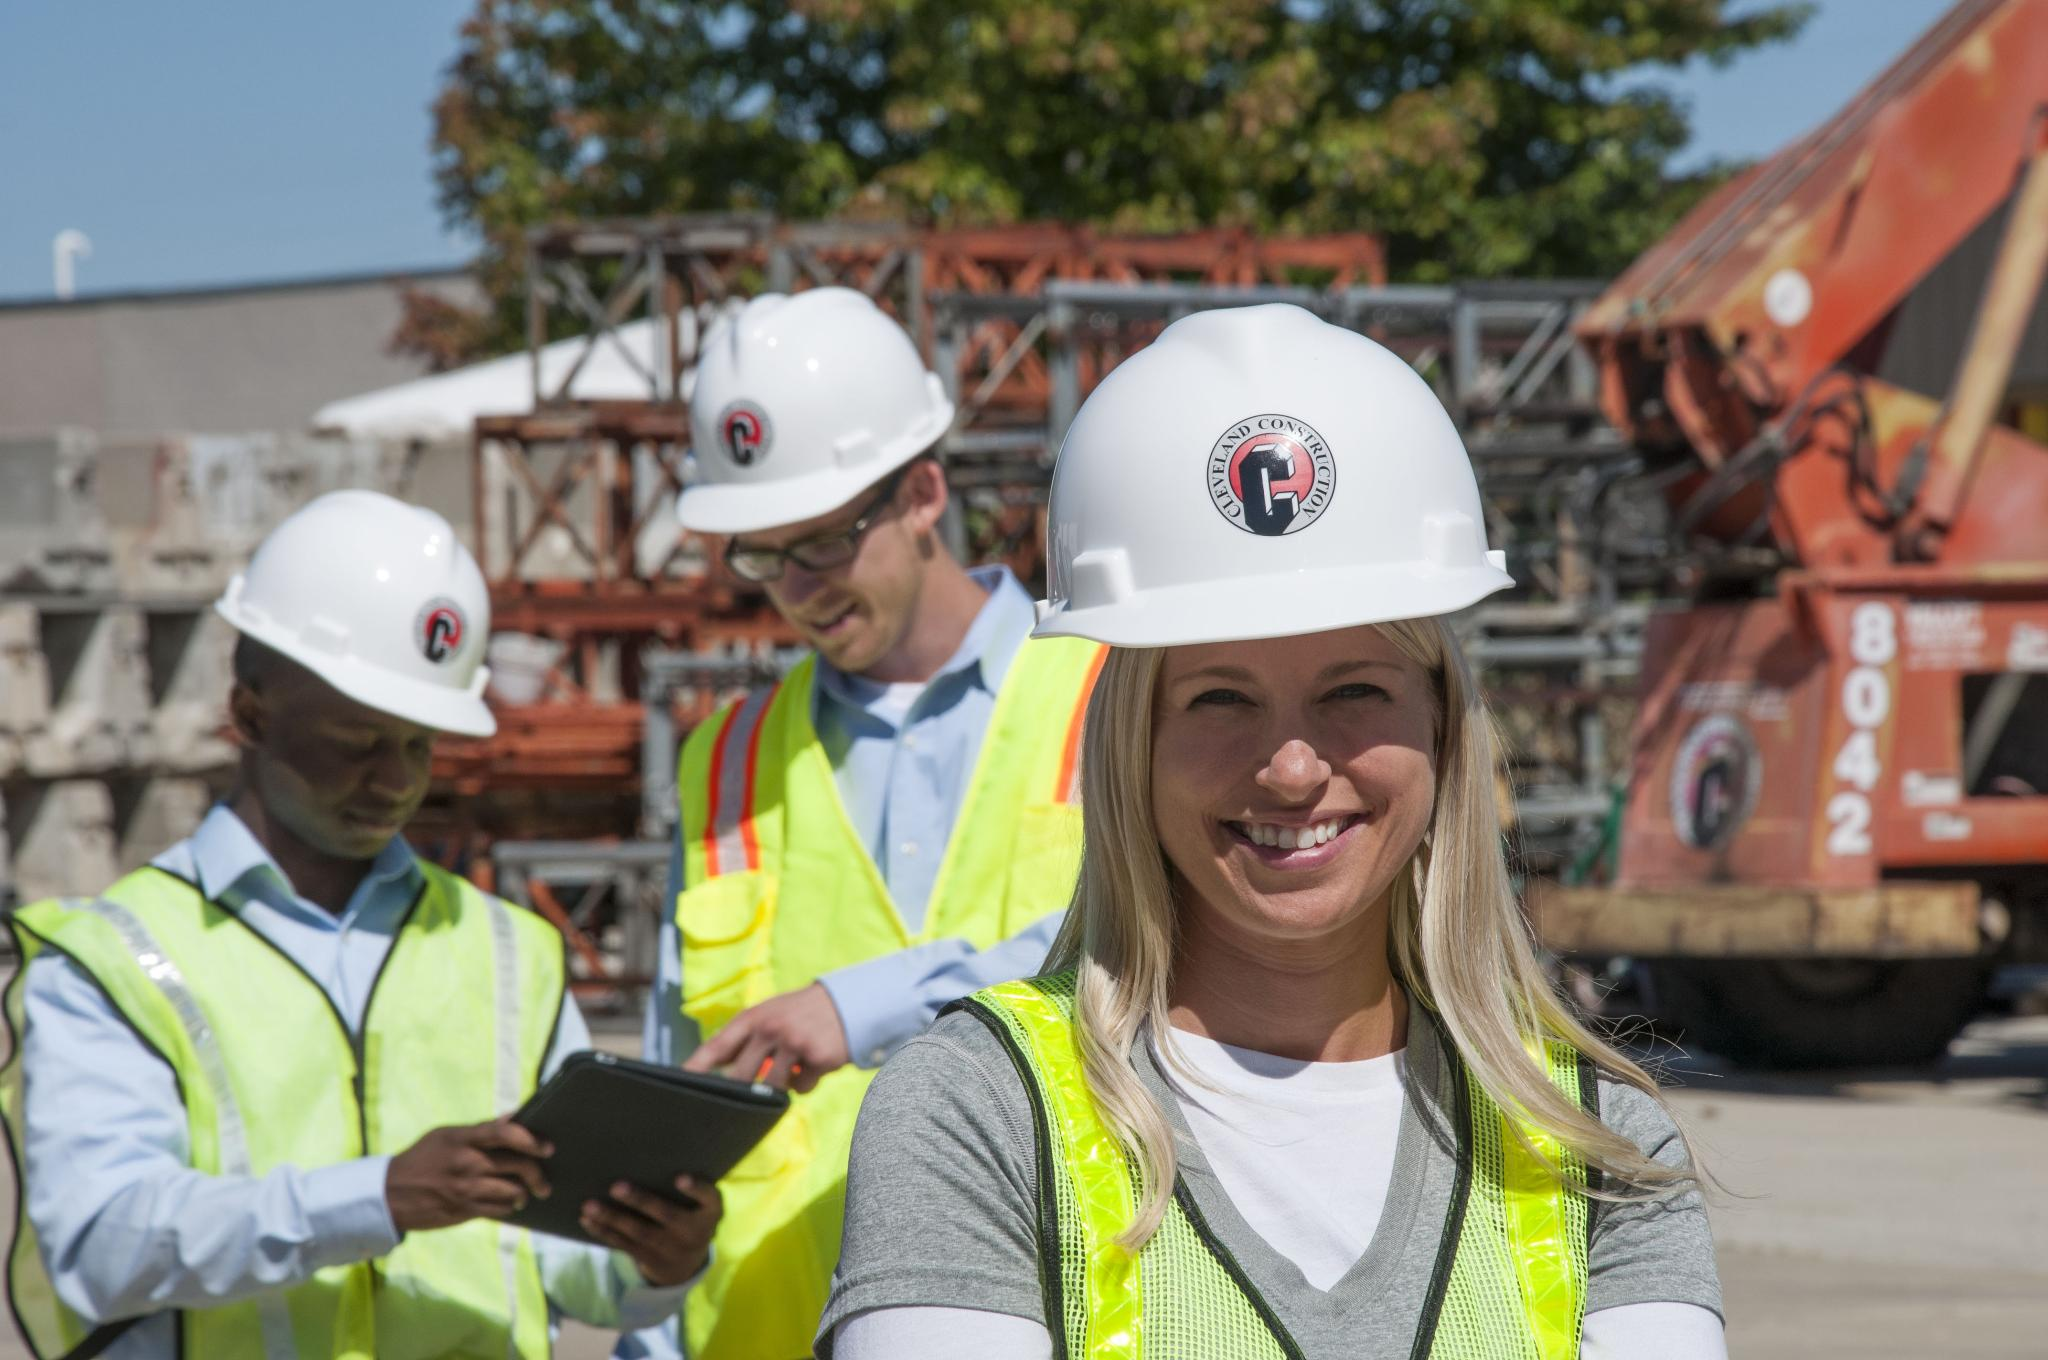helmet: (1036, 294, 1506, 663), (648, 275, 965, 546), (221, 486, 519, 738)
wear: (853, 971, 1670, 1360), (2, 892, 581, 1360), (651, 677, 1100, 1085)
